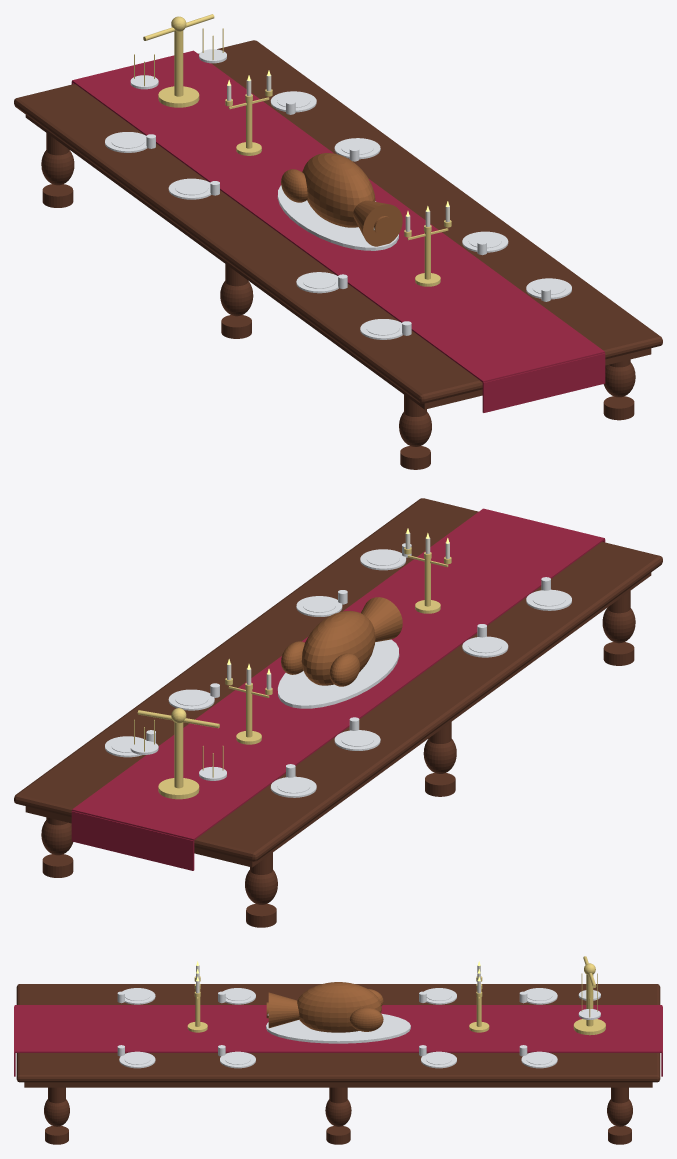
The model's file is bq1_feast.glb.
3 renders of one model, top to bottom at view 1: azimuth 30°, elevation 25°; view 2: azimuth 150°, elevation 25°; view 3: azimuth 270°, elevation 25°, orthographic. The views are drawn at different scales.
Visible parts, largest first — view 1: TableTop, VelvetRunner, RunnerDrape_-3.22, RoastBoarBody, TableApron, BoarSilverPlatter, RoastBoarSnout, Sphere.002, Sphere.001, Sphere, Sphere.003, Sphere.006 (+6 smaller); view 2: TableTop, VelvetRunner, RunnerDrape_3.22, RoastBoarBody, BoarSilverPlatter, TableApron, RoastBoarSnout, Sphere, Sphere.001, Sphere.002, Sphere.005, Sphere.006 (+7 smaller); view 3: TableTop, VelvetRunner, TableApron, RoastBoarBody, BoarSilverPlatter, RoastBoarSnout, Sphere.007, Sphere.004, Sphere.003, Sphere.005, LegFoot_0.92_0.0, LegFoot_0.92_2.8 (+3 smaller).
Part boxes in pixels (x1,y1,x2,y2): TableTop: (14,40,662,403); VelvetRunner: (72,50,604,382); RunnerDrape_-3.22: (482,353,605,412); RoastBoarBody: (302,153,375,227); TableApron: (25,115,651,409); BoarSilverPlatter: (277,185,398,250); RoastBoarSnout: (353,200,402,246); Sphere.002: (41,150,74,185); Sphere.001: (220,281,253,316); Sphere: (399,412,431,446); Sphere.003: (603,362,635,397); Sphere.006: (281,169,307,202); TableTop: (14,498,662,861); VelvetRunner: (72,508,604,840); RunnerDrape_3.22: (71,811,194,870); RoastBoarBody: (301,610,375,685); BoarSilverPlatter: (277,639,399,708); TableApron: (25,572,651,867); RoastBoarSnout: (361,597,402,642); Sphere: (602,608,635,643); Sphere.001: (423,739,456,773); Sphere.002: (245,870,277,904); Sphere.005: (41,820,73,855); Sphere.006: (329,653,360,686); TableTop: (16,984,660,1082); VelvetRunner: (14,1005,662,1052); TableApron: (24,1082,652,1087); RoastBoarBody: (297,982,381,1032); BoarSilverPlatter: (266,1013,410,1043); RoastBoarSnout: (268,992,299,1028); Sphere.007: (349,1007,383,1031); Sphere.004: (325,1099,351,1126); Sphere.003: (44,1099,69,1126); Sphere.005: (607,1099,632,1126); LegFoot_0.92_0.0: (326,1126,350,1144); LegFoot_0.92_2.8: (608,1126,631,1144).
Bounding box in the file's own units: 2.2 × 1.5 × 6.45.
